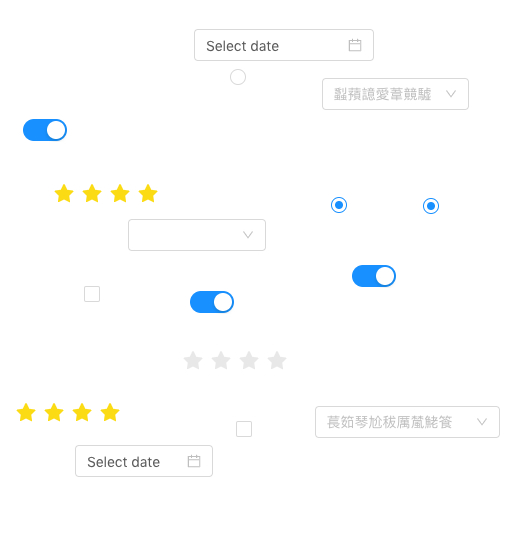Checkbox: (84, 283, 100, 304), (236, 418, 252, 439)
DatePicker: (194, 29, 374, 61), (75, 445, 213, 477)
Radio: (331, 194, 347, 214), (423, 195, 439, 215), (230, 66, 246, 86)
Rate: (183, 344, 303, 376), (16, 396, 136, 428), (54, 177, 174, 209)
Select: (315, 406, 500, 438), (322, 78, 469, 110), (128, 219, 266, 251)
Switch: (190, 290, 234, 314), (23, 118, 67, 142), (352, 264, 396, 288)
